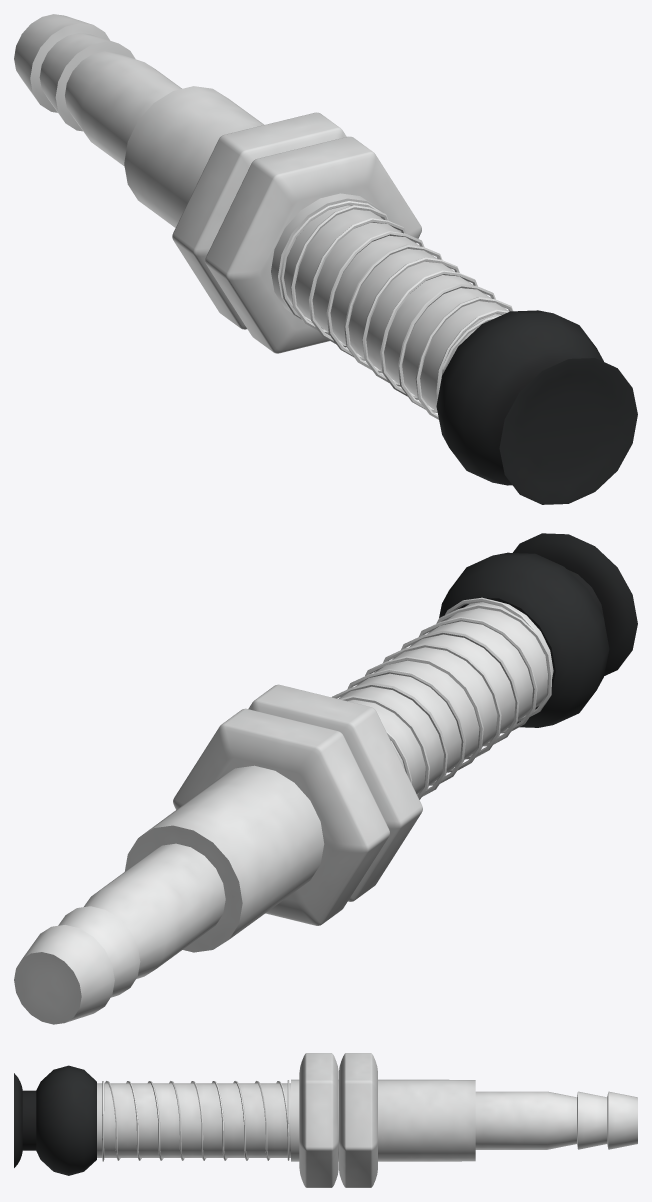
The model's file is 真空吸盘.fbx.
The picture shows the model from 3 angles, top to bottom: view 1: azimuth 30°, elevation 25°; view 2: azimuth 150°, elevation 25°; view 3: azimuth 270°, elevation 25°; orthographic projection. The views are drawn at different scales.
Visible parts, largest first — view 1: 真空吸盘; view 2: 真空吸盘; view 3: 真空吸盘.
Boxes of the visible parts, x1,y1,x2,y2 form: 真空吸盘: [14, 14, 637, 504]; 真空吸盘: [14, 533, 637, 1024]; 真空吸盘: [14, 1053, 637, 1187].
Bounding box in the file's own units: 0.7561 × 0.6617 × 3.48.
